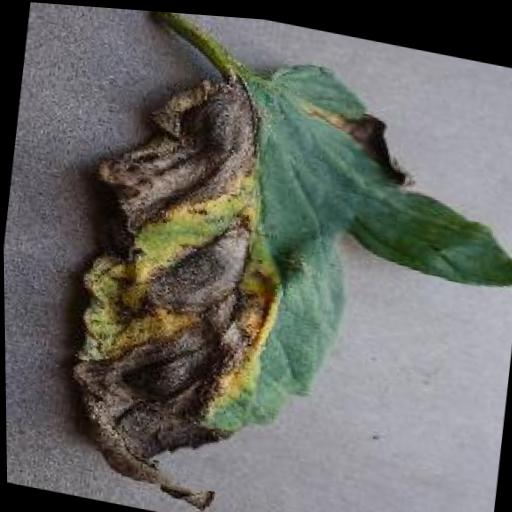Early Blight: (51, 18, 512, 512)
